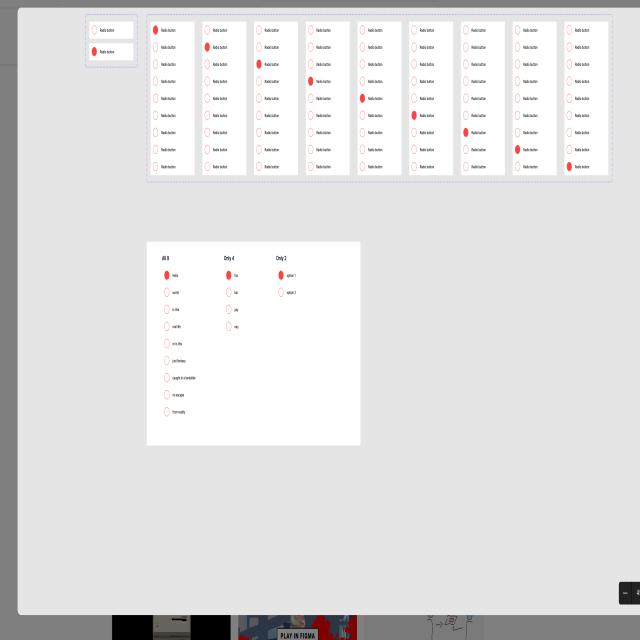radio: (564, 20, 600, 174), (409, 20, 443, 176), (162, 269, 197, 420), (356, 20, 389, 176), (201, 21, 234, 176), (463, 19, 495, 178), (151, 21, 184, 175), (305, 22, 338, 174), (255, 22, 286, 174), (514, 22, 544, 175), (90, 18, 134, 63), (221, 263, 246, 336), (276, 266, 303, 304)
